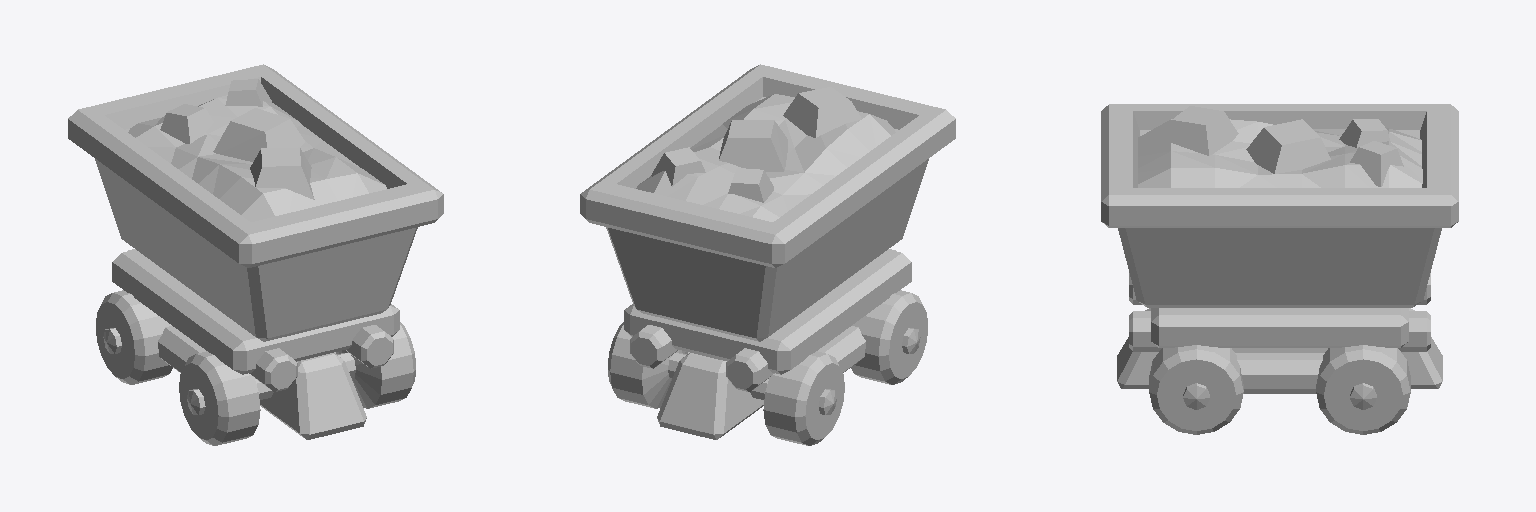
File: train_tender_coal.obj
3 views of the same model, side by side, from view 1: azimuth 30°, elevation 25°; view 2: azimuth 150°, elevation 25°; view 3: azimuth 270°, elevation 25° (orthographic).
Visible parts, largest first — view 1: train_tender_coal; view 2: train_tender_coal; view 3: train_tender_coal.
Boxes of the visible parts, <box> form: train_tender_coal: <box>68,64,443,445</box>; train_tender_coal: <box>580,64,955,445</box>; train_tender_coal: <box>1101,104,1458,434</box>.
Bounding box in the file's own units: 0.4459 × 0.5315 × 0.6421.